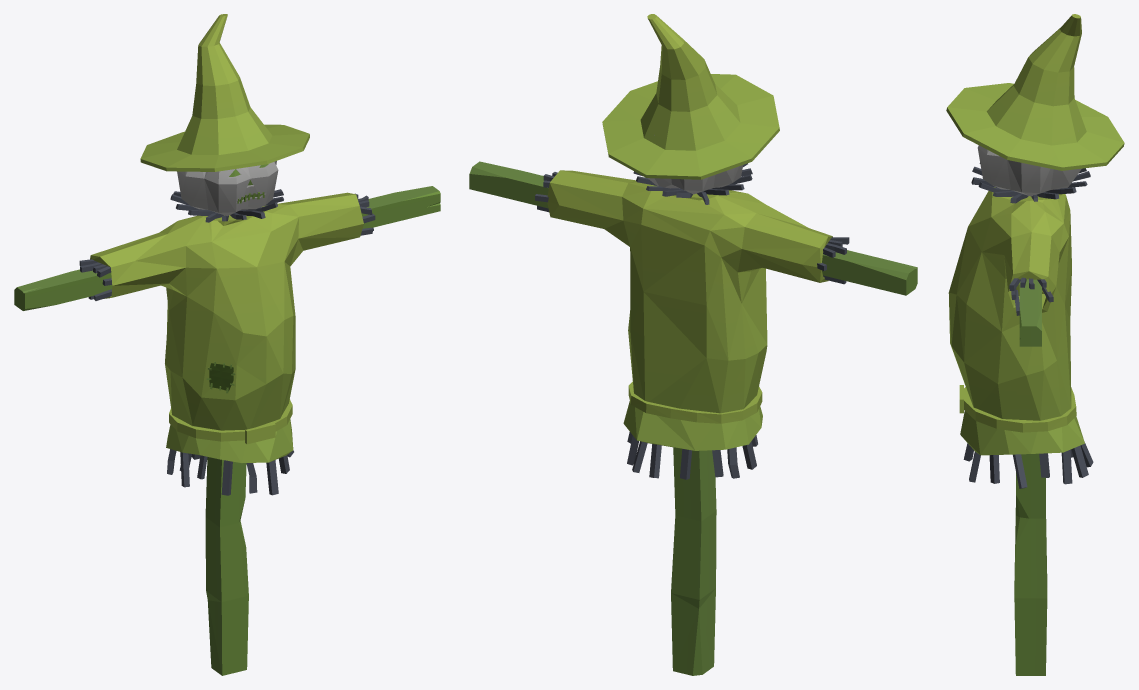
File: Scarecrow_02.fbx
The picture shows the model from 3 angles, left to right: view 1: azimuth 30°, elevation 25°; view 2: azimuth 150°, elevation 25°; view 3: azimuth 270°, elevation 25°; orthographic projection. The views are drawn at different scales.
Parts seen in each view (by area): view 1: Scarecrow_02; view 2: Scarecrow_02; view 3: Scarecrow_02.
Boxes of the visible parts, bbox=[...] form: Scarecrow_02: bbox=[14, 14, 440, 675]; Scarecrow_02: bbox=[469, 14, 917, 675]; Scarecrow_02: bbox=[946, 14, 1124, 675].
Size of the model in its own units: 1.7 by 2.47 by 0.6028.
